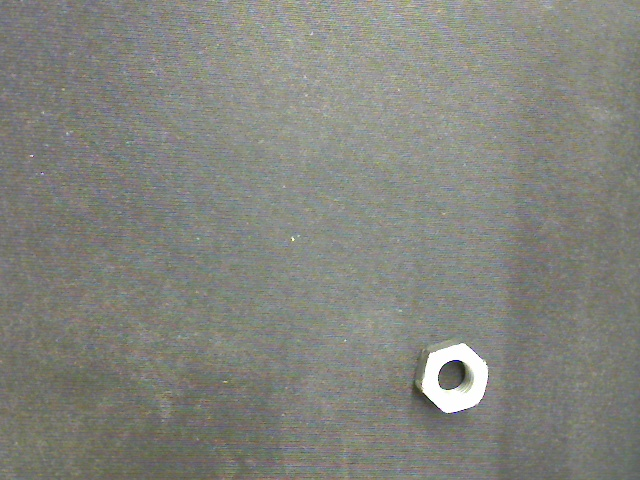nut: (409, 337, 490, 413)
